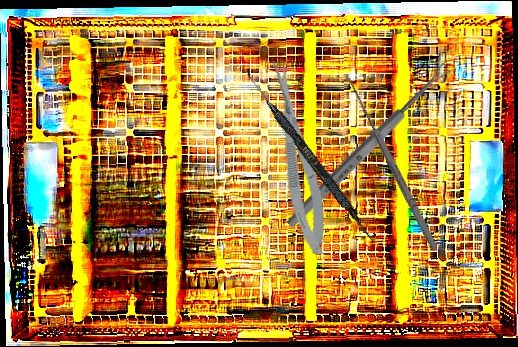Hook Surgical: (337, 74, 440, 254)
Micro Scissor: (265, 57, 333, 258)
Spatula Surgical: (239, 68, 380, 244)
Surgical Spoon: (284, 61, 453, 231)
